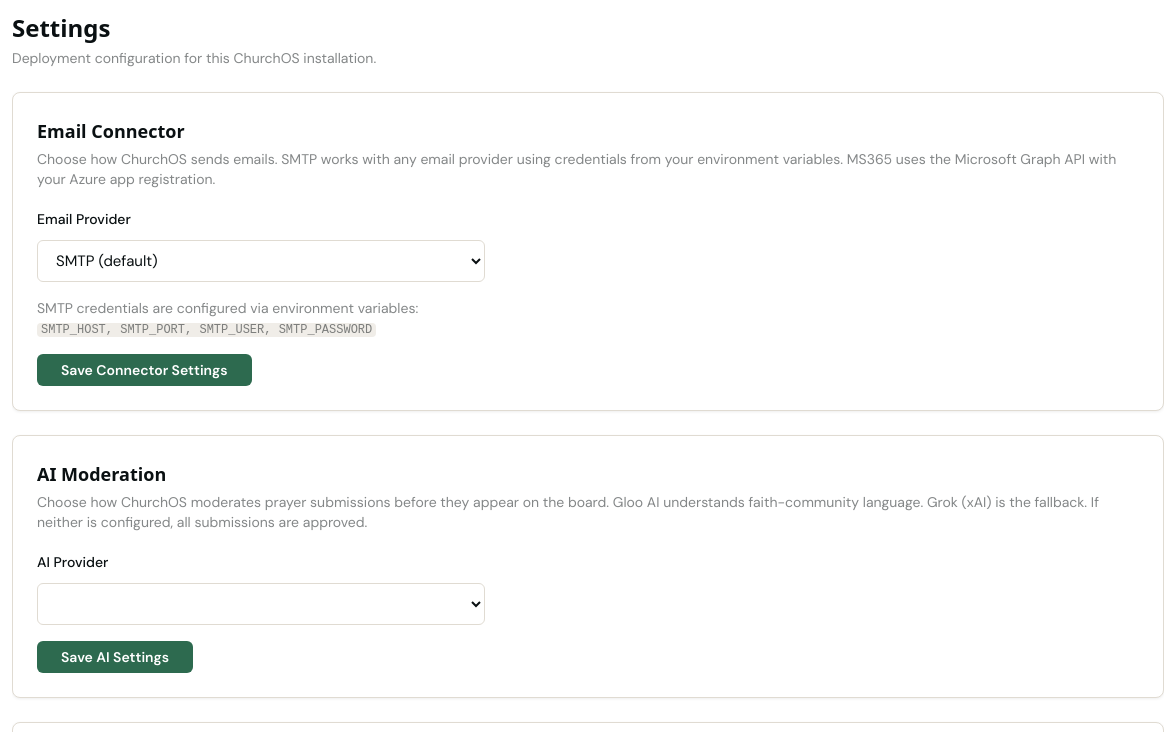
it: SettingsPage — Email Connector › shows MS365 credential fields when ms365 is selected
Step 1. Select "Microsoft 365 (Graph API)" in the dropdown with test id "email-provider-select" → (261, 261), box [37,240,485,282]
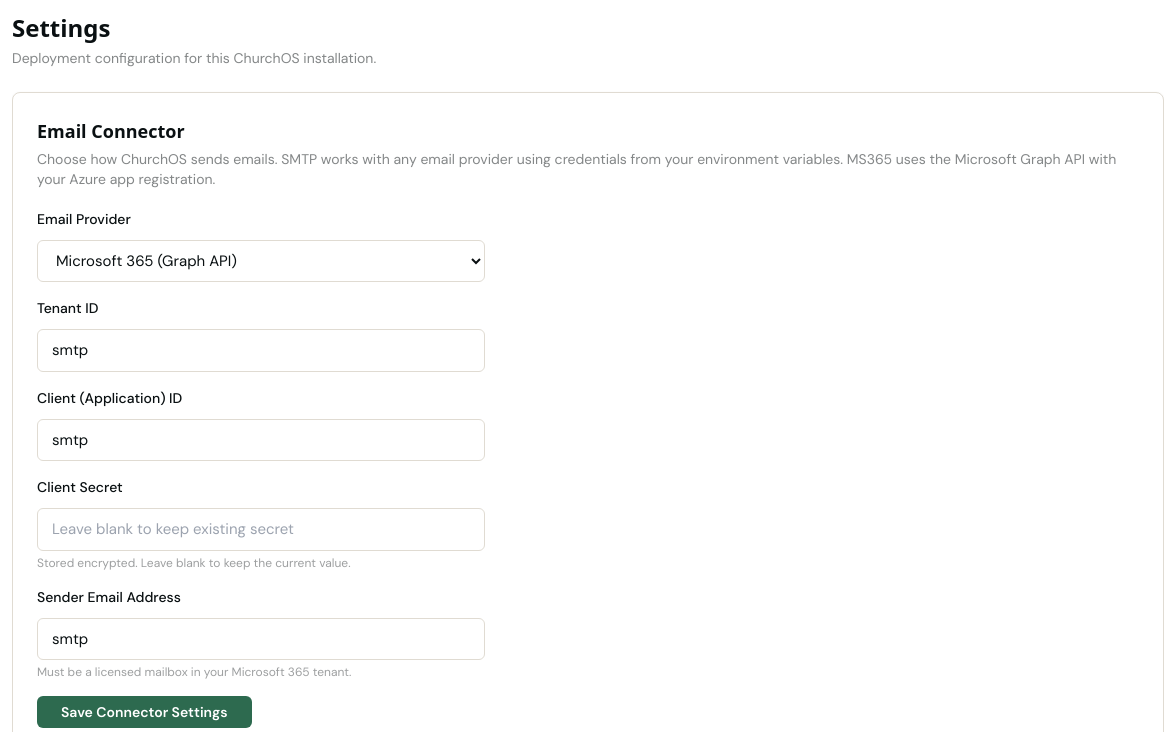
expect the field with test id "ms365-tenant-id" is shown: met, box [37,329,485,372]
expect the field with test id "ms365-client-id" is shown: met, box [37,418,485,461]
expect the password field with test id "ms365-client-secret" is shown: met, box [37,508,485,550]
